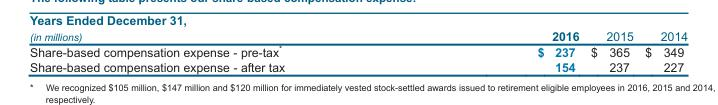table: (29, 28, 687, 73)
table column: (29, 28, 410, 73), (410, 28, 584, 73), (584, 28, 638, 73), (638, 28, 687, 73)
table column header: (29, 28, 687, 42)
table row: (29, 42, 687, 59), (29, 28, 687, 42), (29, 59, 687, 73)
